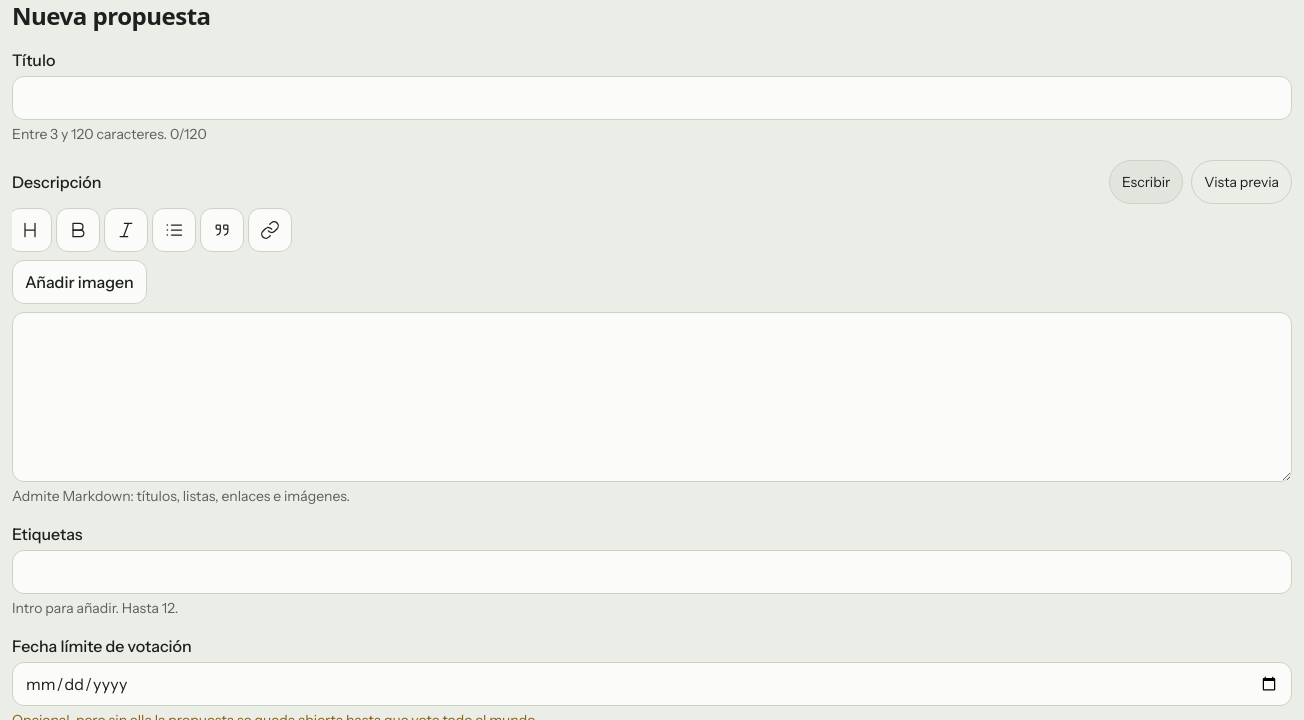
Test: ProposalForm, el borrador › seguir escribiendo desarma la confirmación de descartar
Type "Un sofá nuevo" into the field labelled "Título" at (652, 98), box [12,76,1292,120]
(page scrolled)
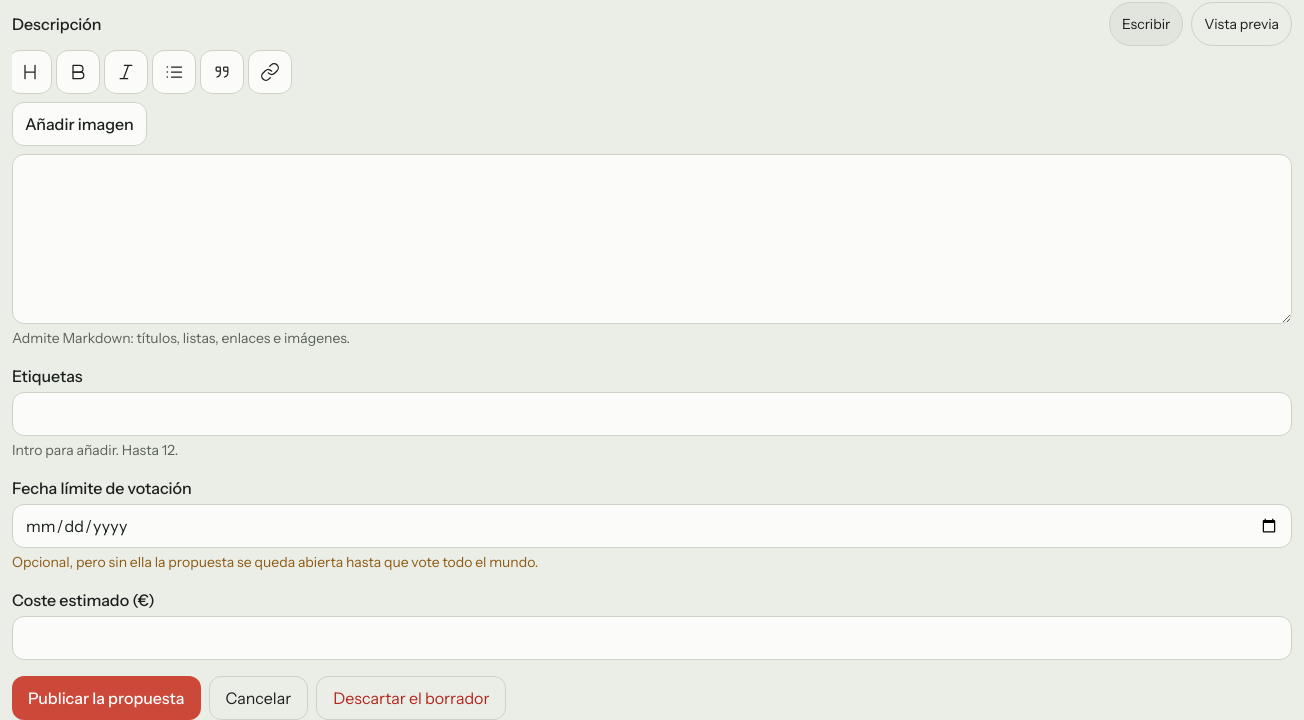
Click the button "Descartar el borrador" at (411, 698), box [316,676,506,719]
(page scrolled)
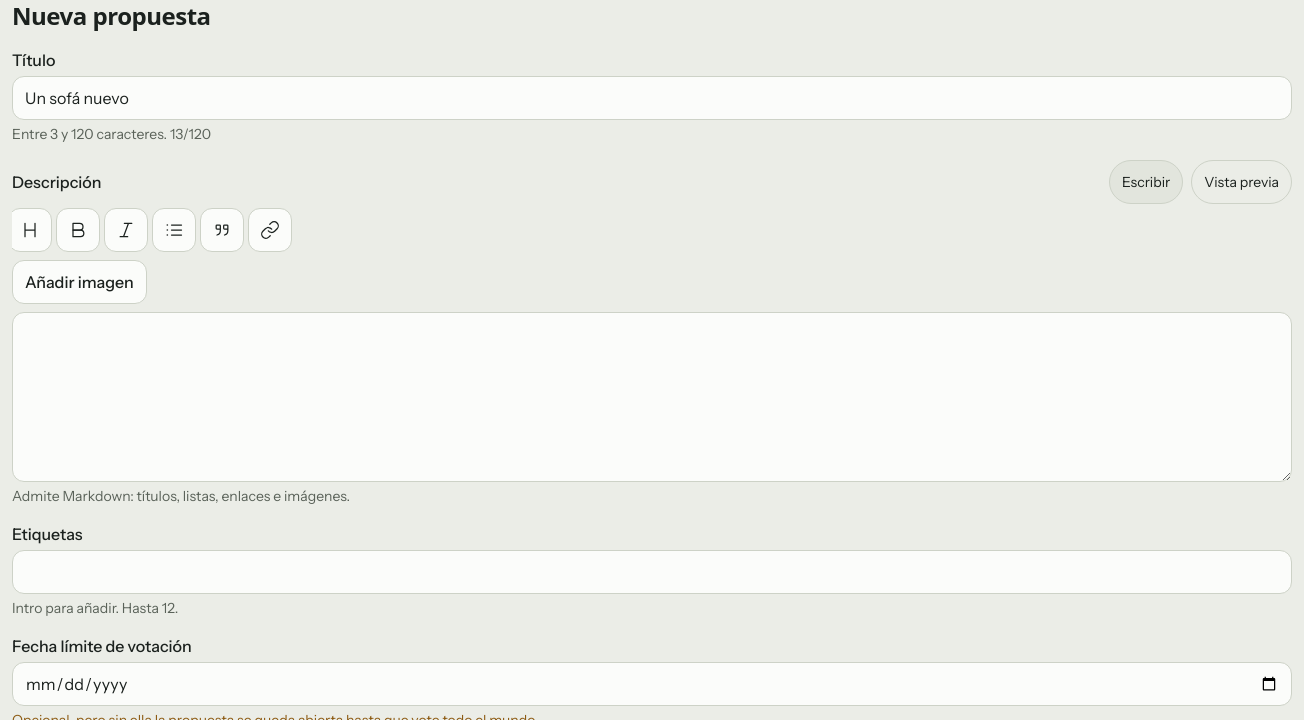
Type " y grande" into the field labelled "Título" at (652, 98), box [12,76,1292,120]
(page scrolled)
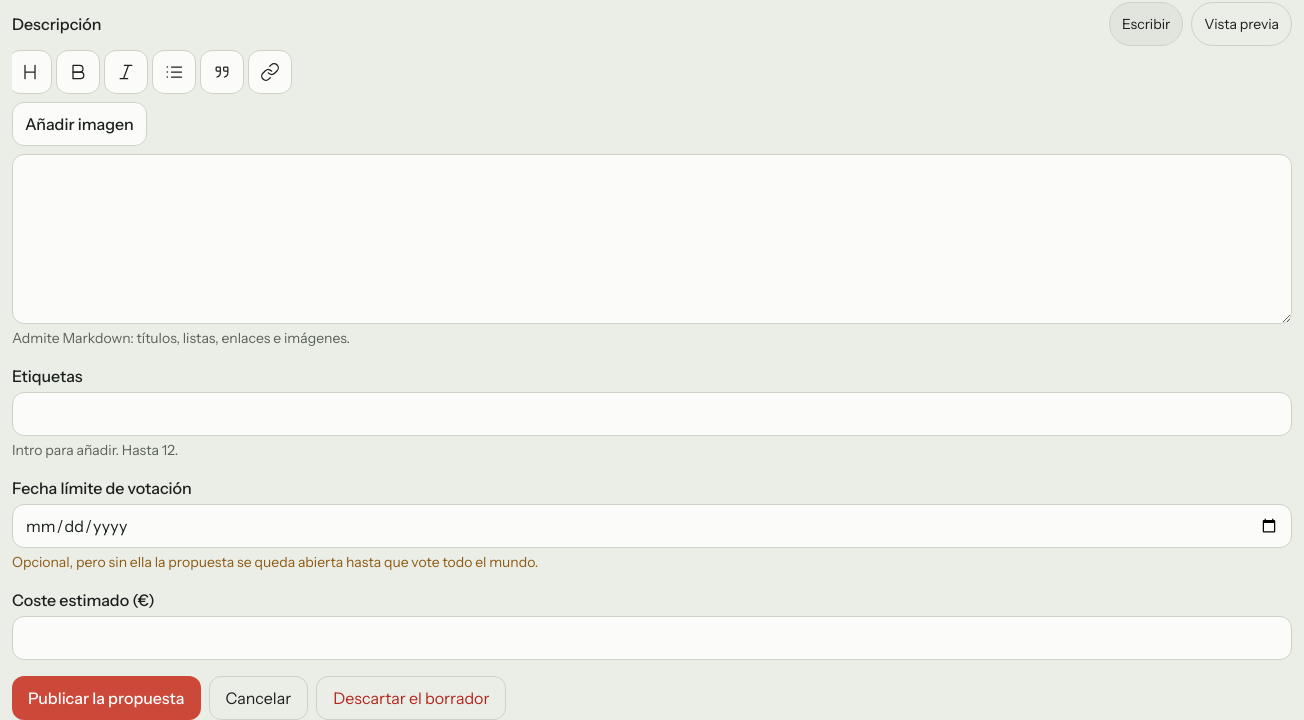
Check: the button "Descartar el borrador" is shown, box [316,676,506,719]
